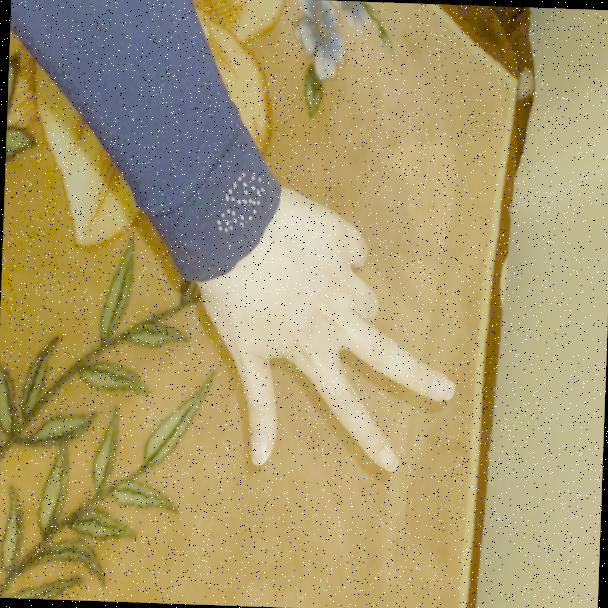three: (171, 193, 463, 498)
